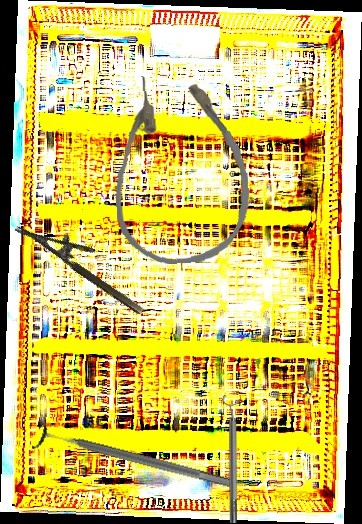Cannula: (107, 69, 254, 268)
Fixation Ring: (31, 419, 235, 499), (222, 395, 243, 523)
Needle Holder: (14, 205, 156, 317)
